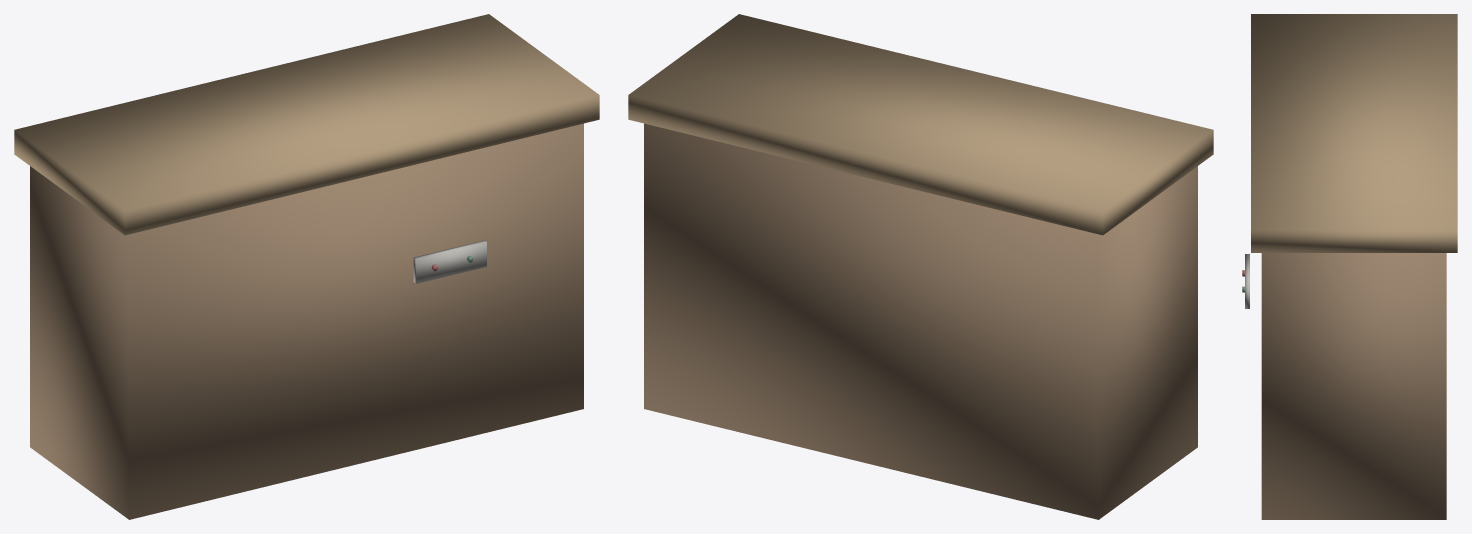
The model's file is florist_wrapping_counter__tall.glb.
3 renders of one model, left to right at view 1: azimuth 30°, elevation 25°; view 2: azimuth 150°, elevation 25°; view 3: azimuth 270°, elevation 25°, orthographic. The views are drawn at different scales.
Visible parts, largest first — view 1: world; view 2: world; view 3: world.
Part boxes in pixels (x1=…): world: x1=14, y1=14, x2=599, y2=519; world: x1=628, y1=14, x2=1213, y2=519; world: x1=1242, y1=14, x2=1457, y2=519.
Size of the model in its own units: 1.88 by 1.19 by 0.791.
